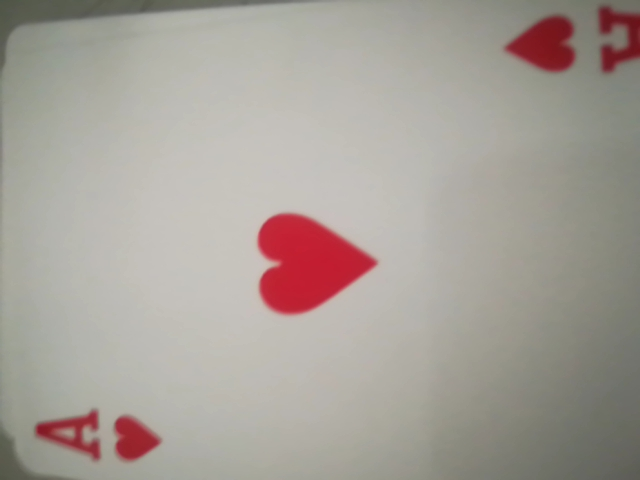hx a: (17, 386, 182, 480), (497, 0, 640, 93)
